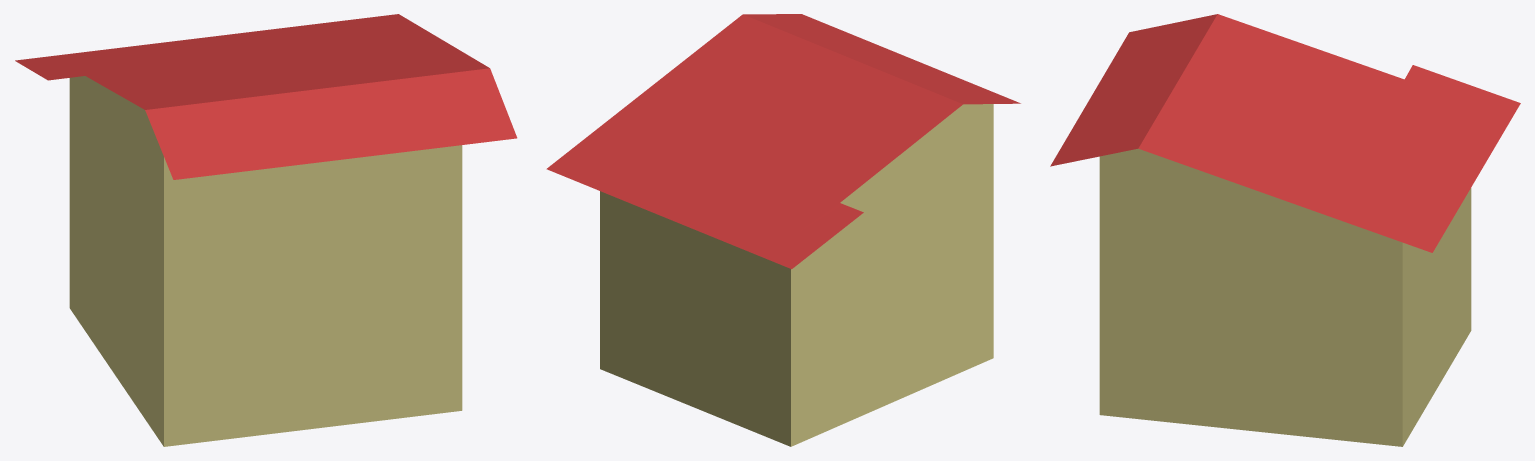
The picture shows the model from 3 angles, left to right: view 1: azimuth 30°, elevation 25°; view 2: azimuth 150°, elevation 25°; view 3: azimuth 270°, elevation 25°; orthographic projection. The views are drawn at different scales.
Visible parts, largest first — view 1: group_5, group_3, group_4; view 2: group_5, group_3, group_4; view 3: group_5, group_3, group_4.
Part boxes in pixels (x1=…): group_5: x1=69, y1=76, x2=462, y2=446; group_3: x1=15, y1=14, x2=517, y2=179; group_4: x1=23, y1=61, x2=513, y2=179; group_5: x1=600, y1=104, x2=993, y2=446; group_3: x1=546, y1=14, x2=1020, y2=269; group_4: x1=791, y1=14, x2=1019, y2=268; group_5: x1=1099, y1=148, x2=1471, y2=446; group_3: x1=1050, y1=14, x2=1520, y2=252; group_4: x1=1057, y1=14, x2=1518, y2=161.
Size of the model in its own units: 10.12 by 11.53 by 7.79.
